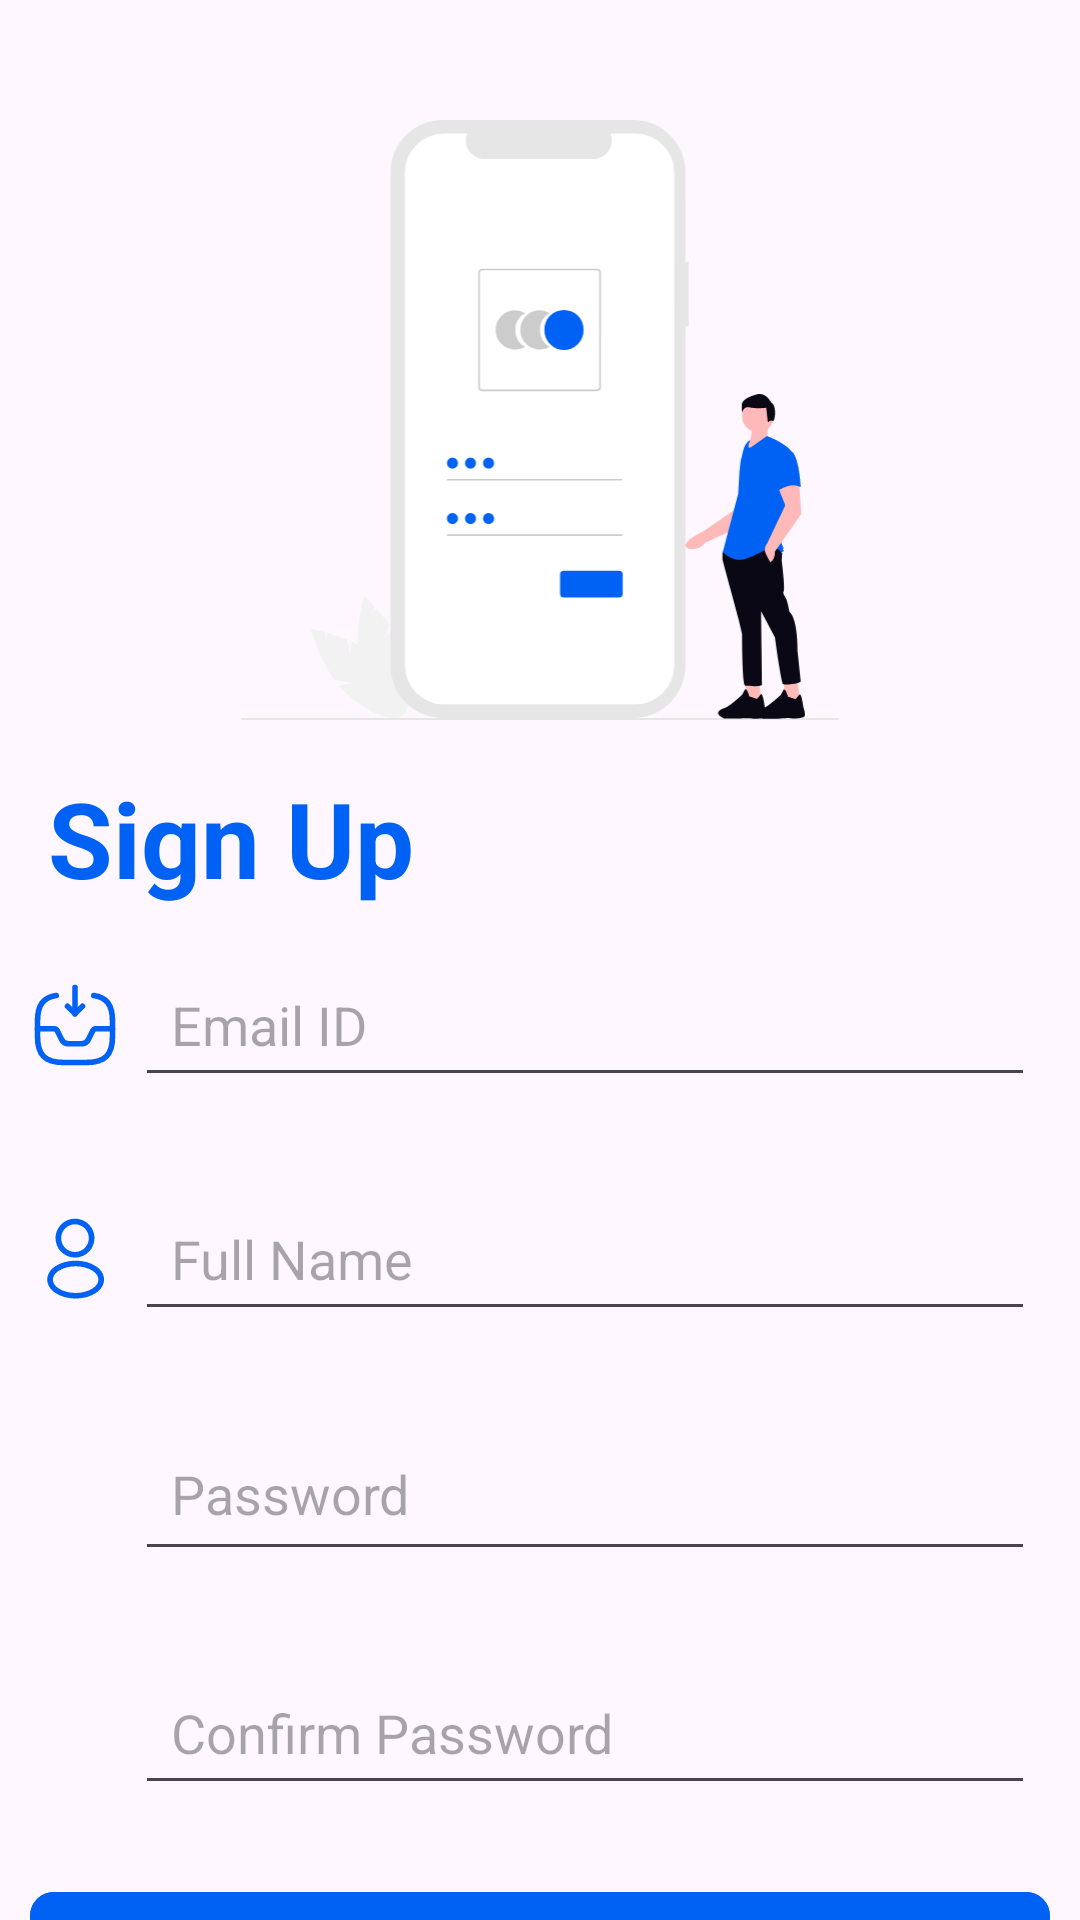

Icon click points for this 1080 x 1920 phone screenshot, format (x,y):
inbox: (75,1025)
person: (75,1258)
